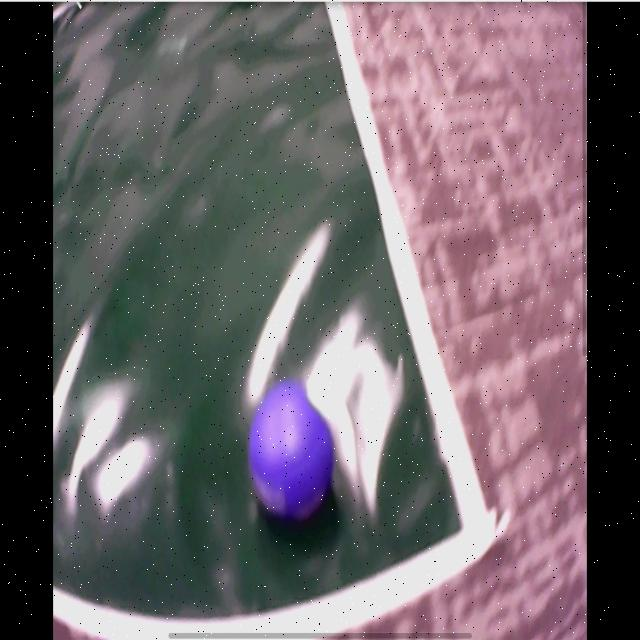ball: (249, 385, 336, 526)
